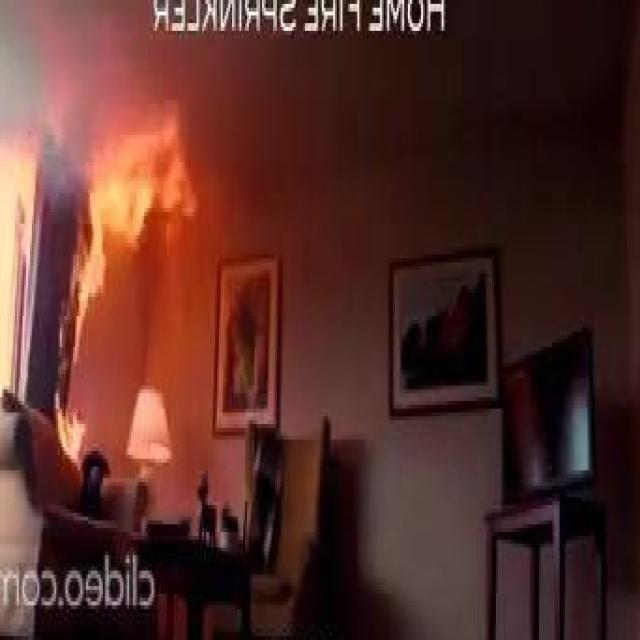smoke: (57, 118, 196, 356), (50, 388, 91, 468)
